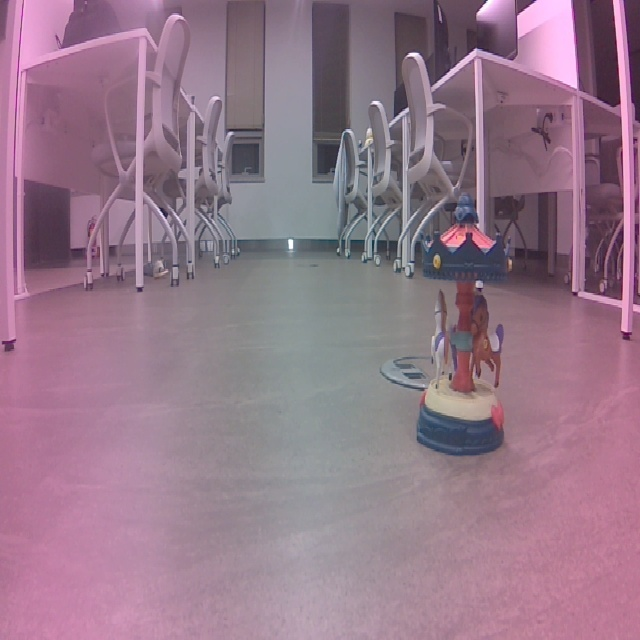목적지: (397, 181, 530, 466)
